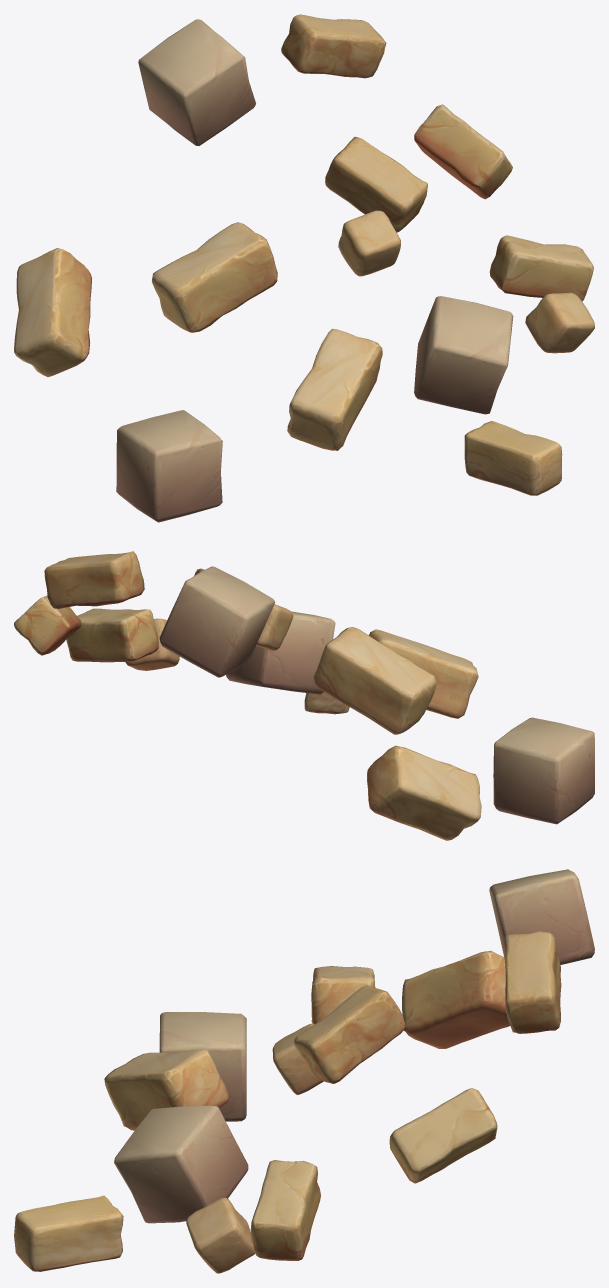
File: RubbleRocks.fbx
The picture shows the model from 3 angles, top to bottom: view 1: azimuth 30°, elevation 25°; view 2: azimuth 150°, elevation 25°; view 3: azimuth 270°, elevation 25°; orthographic projection. The views are drawn at different scales.
Visible parts, largest first — view 1: polySurface299, polySurface300, polySurface304, polySurface297, polySurface310, polySurface303, polySurface308, polySurface301, polySurface306, polySurface298, polySurface305, polySurface307 (+1 smaller); view 2: polySurface299, polySurface300, polySurface297, polySurface310, polySurface304, polySurface306, polySurface298, polySurface303, polySurface305, polySurface309, polySurface307, polySurface301; view 3: polySurface304, polySurface310, polySurface301, polySurface300, polySurface303, polySurface308, polySurface305, polySurface298, polySurface306, polySurface299, polySurface307, polySurface297 (+1 smaller).
Boxes of the visible parts, <box> form: polySurface299: <box>116,410,222,522</box>; polySurface300: <box>138,19,255,145</box>; polySurface304: <box>414,296,513,414</box>; polySurface297: <box>151,222,277,332</box>; polySurface310: <box>14,248,91,376</box>; polySurface303: <box>287,328,382,450</box>; polySurface308: <box>325,137,427,232</box>; polySurface301: <box>464,421,562,495</box>; polySurface306: <box>281,14,386,78</box>; polySurface298: <box>489,235,593,301</box>; polySurface305: <box>414,104,512,199</box>; polySurface307: <box>525,292,594,353</box>; polySurface299: <box>493,717,594,824</box>; polySurface300: <box>159,566,275,677</box>; polySurface297: <box>313,627,436,734</box>; polySurface310: <box>367,745,481,840</box>; polySurface304: <box>226,611,335,694</box>; polySurface306: <box>44,551,144,608</box>; polySurface298: <box>66,608,158,662</box>; polySurface303: <box>369,629,478,718</box>; polySurface305: <box>14,595,81,655</box>; polySurface309: <box>256,604,293,650</box>; polySurface307: <box>125,618,179,670</box>; polySurface301: <box>304,691,349,714</box>; polySurface304: <box>114,1106,248,1223</box>; polySurface310: <box>402,950,510,1048</box>; polySurface301: <box>14,1195,123,1271</box>; polySurface300: <box>489,869,594,964</box>; polySurface303: <box>104,1049,228,1130</box>; polySurface308: <box>294,985,405,1083</box>; polySurface305: <box>389,1088,497,1183</box>; polySurface298: <box>250,1160,320,1260</box>; polySurface306: <box>504,931,561,1033</box>; polySurface299: <box>159,1012,246,1121</box>; polySurface307: <box>186,1197,254,1273</box>; polySurface297: <box>311,966,375,1024</box>.
Bounding box in the file's own units: 720 × 431 × 668.
